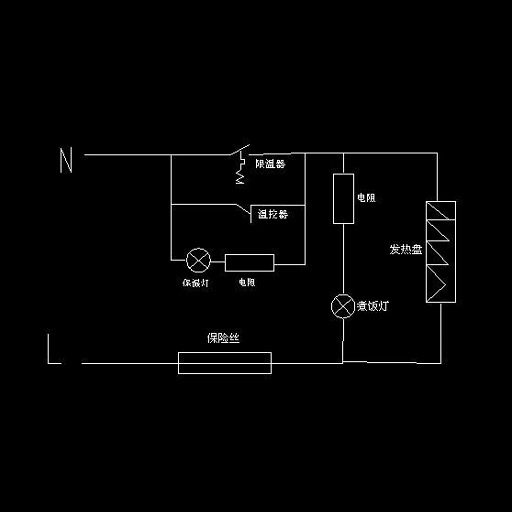firstresistance: (330, 171, 355, 228), (222, 251, 278, 276)
fuse: (171, 347, 278, 380)
light: (182, 246, 213, 275), (327, 291, 355, 320)
